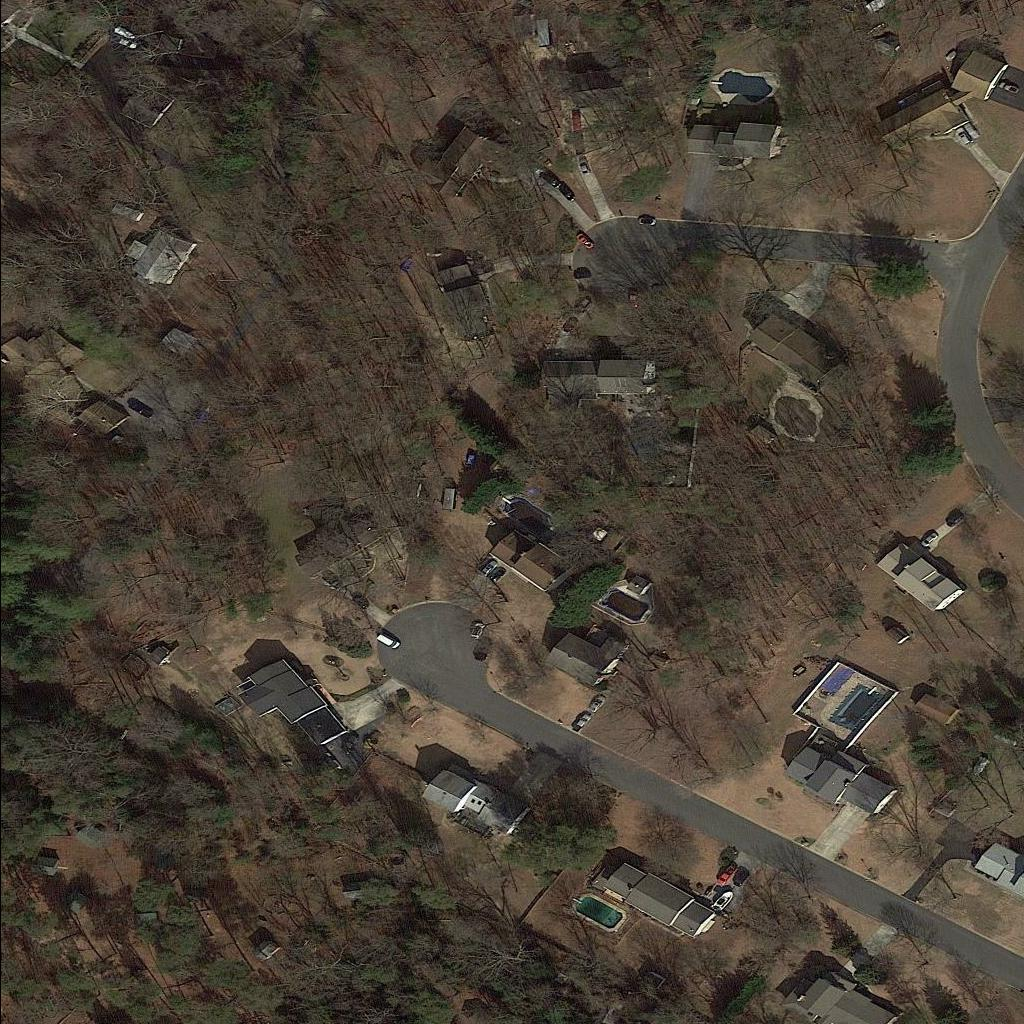ship: (709, 888, 737, 914), (969, 753, 990, 780), (113, 25, 137, 42)
